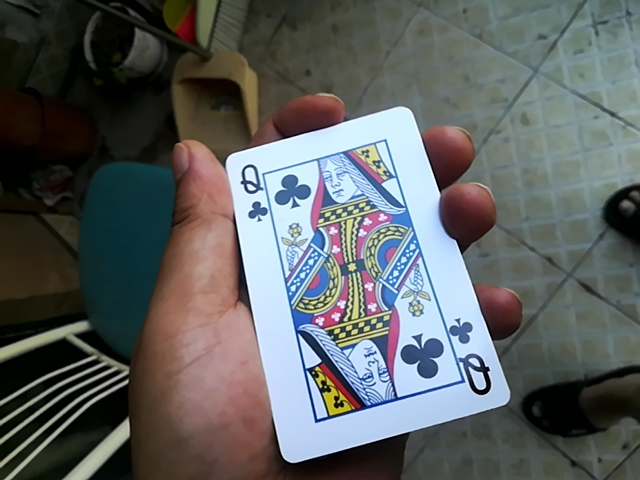mh q: (206, 98, 488, 467)
